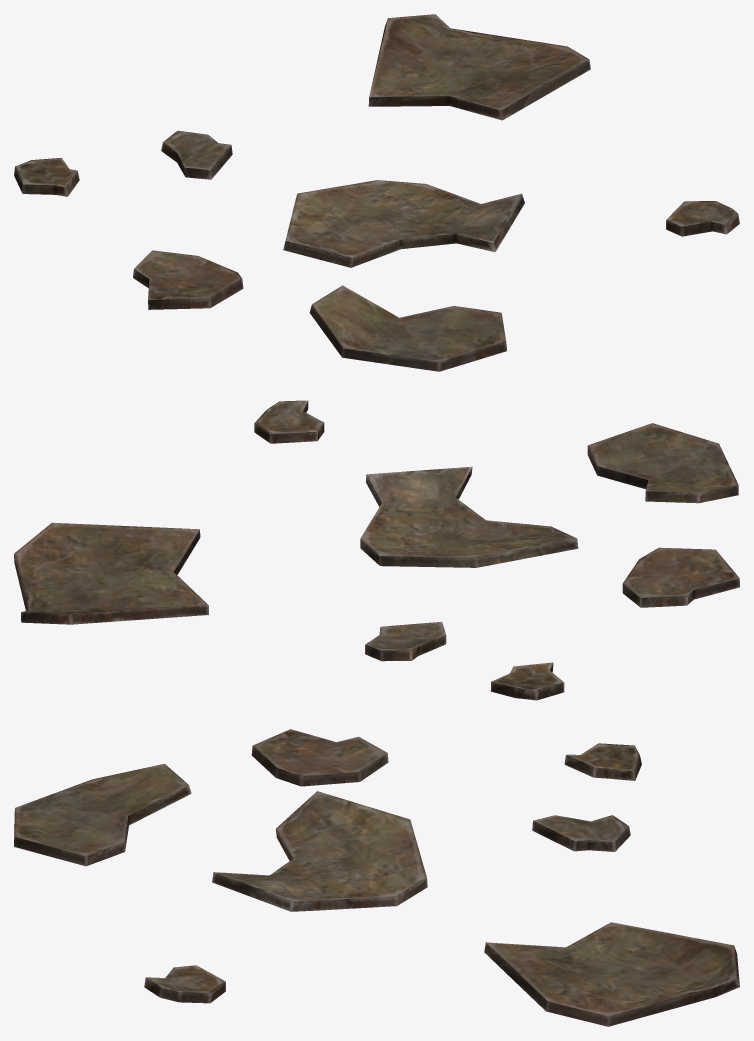
The model's file is kor_vodl_item_ancient_pottery_pieces.glb.
3 views of the same model, one above another, from view 1: azimuth 30°, elevation 25°; view 2: azimuth 150°, elevation 25°; view 3: azimuth 270°, elevation 25° (orthographic). The views are drawn at different scales.
Visible parts, largest first — view 1: kor_vodl_item_ancient_pottery_pieces; view 2: kor_vodl_item_ancient_pottery_pieces; view 3: kor_vodl_item_ancient_pottery_pieces.
Boxes of the visible parts, x1,y1,x2,y2 form: kor_vodl_item_ancient_pottery_pieces: [14, 14, 739, 371]; kor_vodl_item_ancient_pottery_pieces: [14, 400, 739, 700]; kor_vodl_item_ancient_pottery_pieces: [14, 729, 739, 1026].
Bounding box in the file's own units: 0.3154 × 0.0158 × 0.3374.
1 material, 1 textured.
